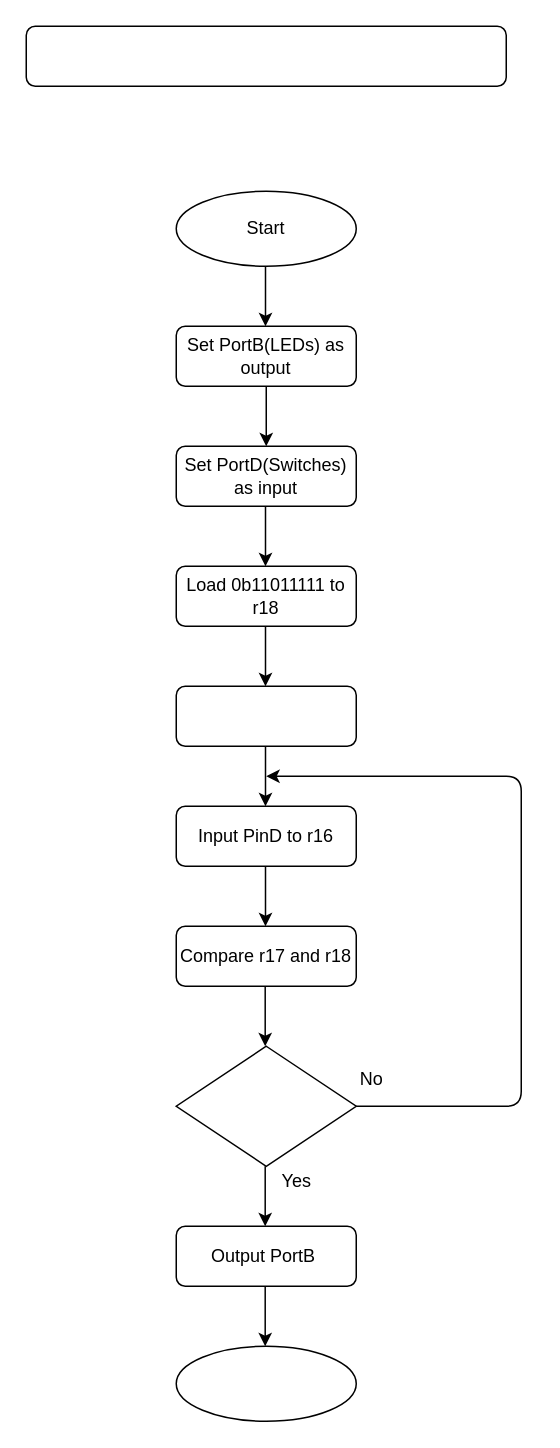
This 560x1448 diagram has some shape labels left out. The shapes that lost their labels are listed below. From the top down, each one's box as (x1, y1, x2, y2) in pixels, then its label:
(25, 25, 506, 86): Lab 1 Task 3
(175, 685, 356, 746): Load 0b11111110 to r19
(175, 1045, 356, 1166): Is r17 = r18
(175, 1345, 356, 1421): End
